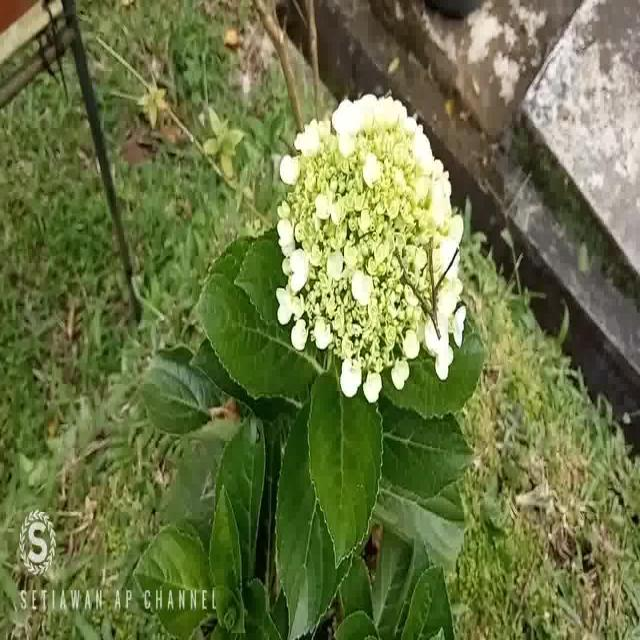Flower: (271, 70, 476, 412)
